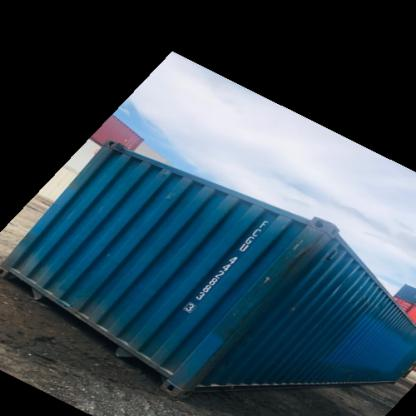Damage: (258, 240, 329, 293), (341, 267, 386, 320)
